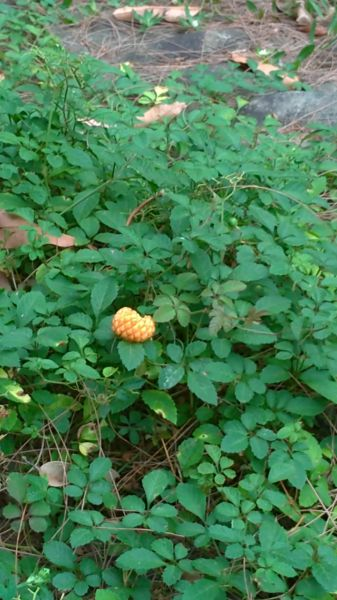eggs: (112, 304, 156, 344)
